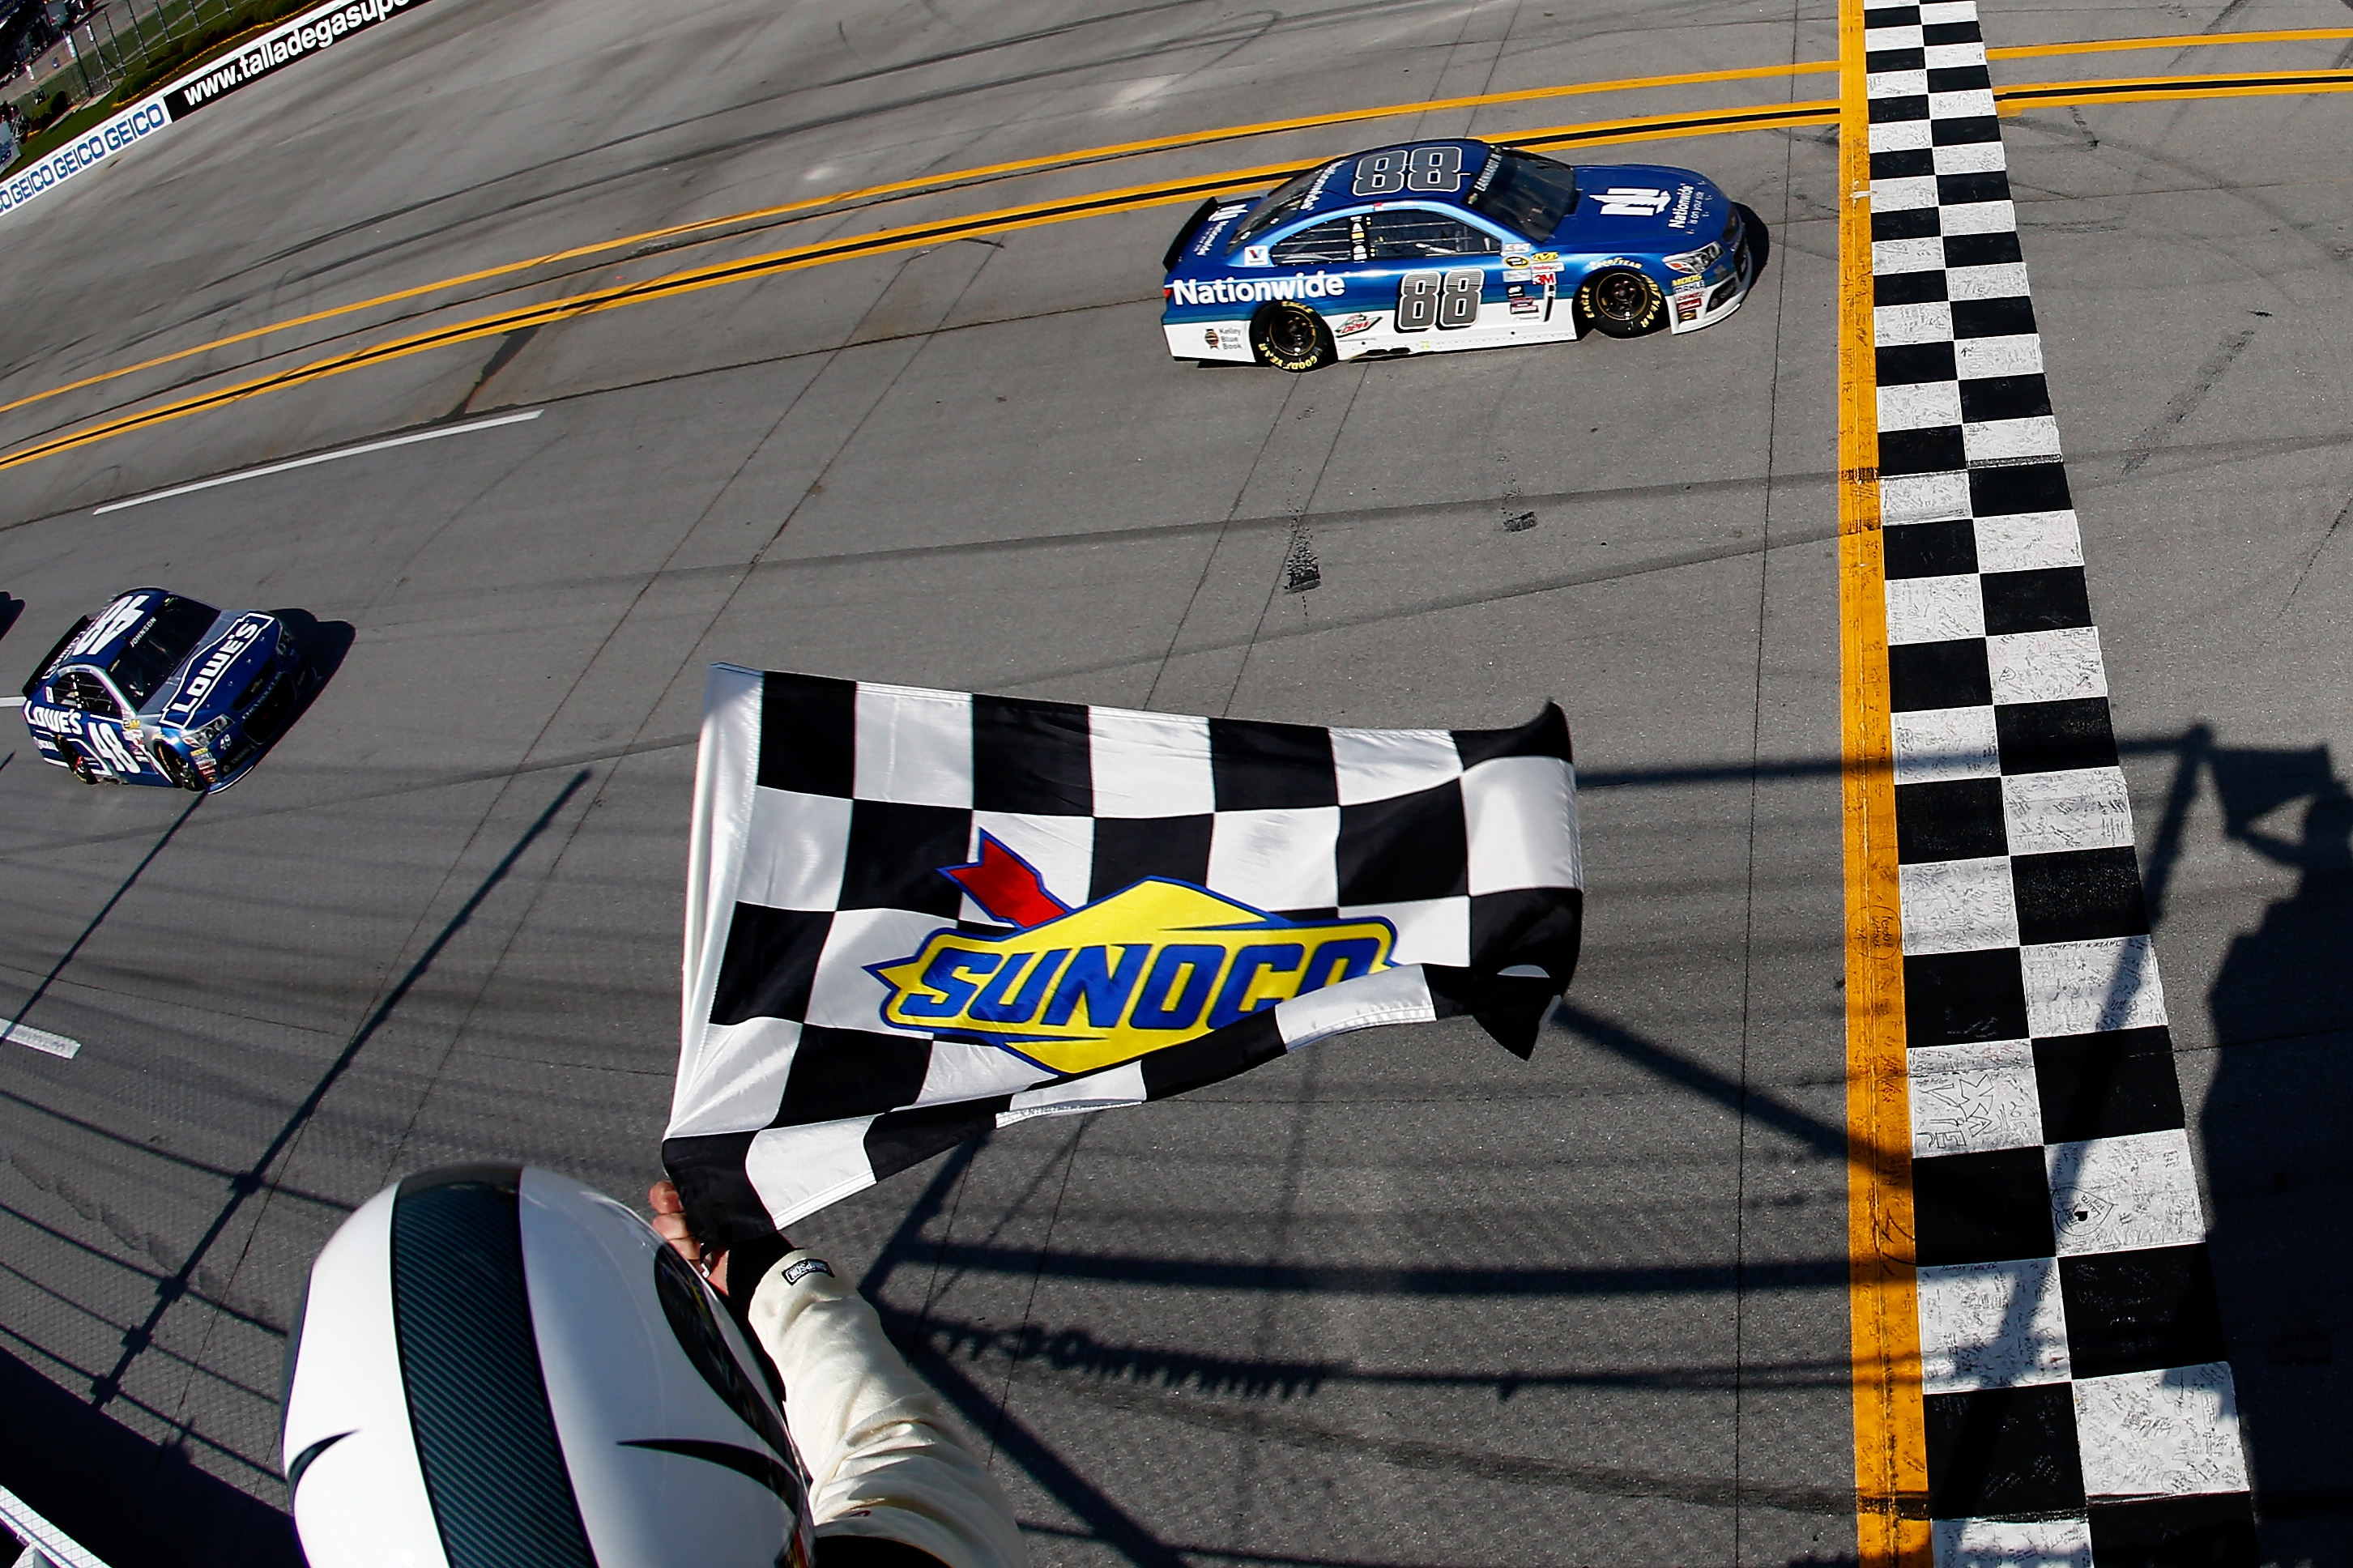Geico: (7, 98, 164, 210)
